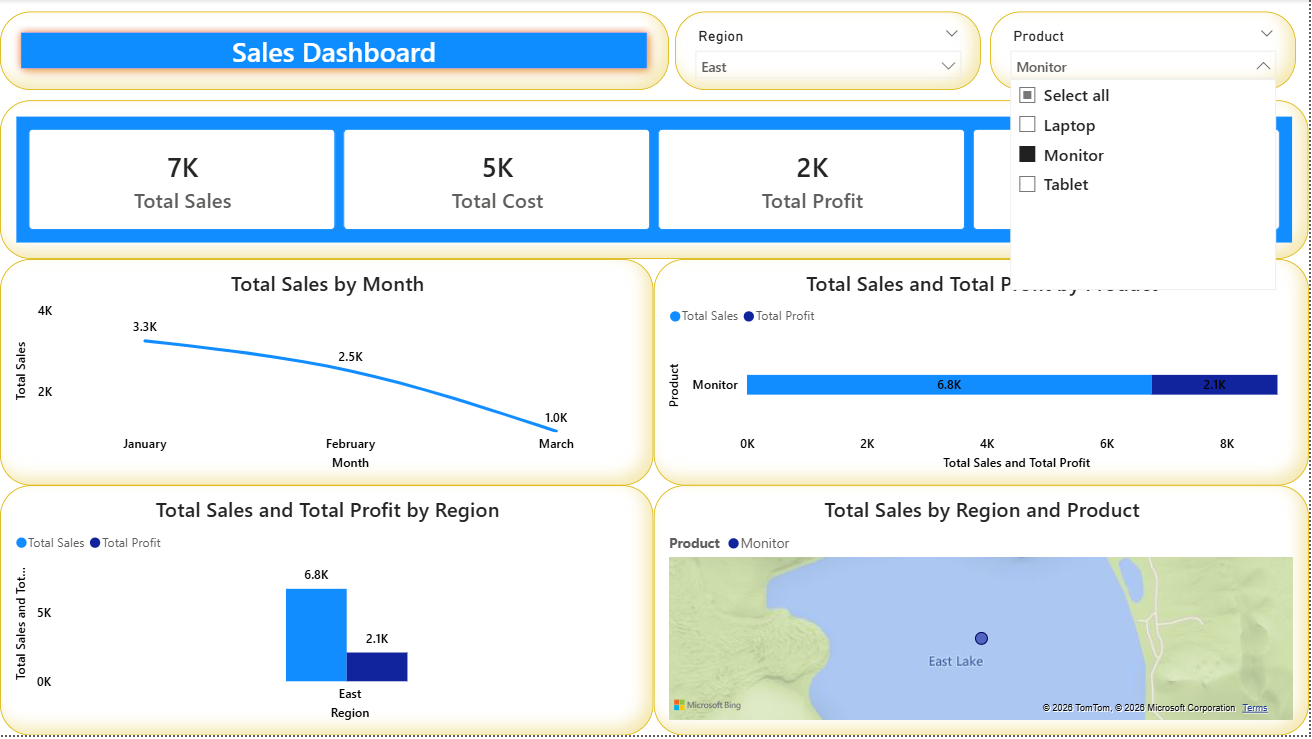

This screenshot's page, from the dashboard's own definition file:
{"tool":"powerbi","page":{"name":"Sales_Dashboard","canvas":[1280,720],"ordinal":0},"visuals":[{"type":"shape","box":[0,12.2,654.2,77],"z":0},{"type":"cardVisual","fields":{"Data":["Dax_Table (2).Total Sales","Dax_Table (2).Total Cost ","Dax_Table (2).Total Profit","Dax_Table (2).Total Quantity"]},"box":[0,99,1280.3,155.3],"z":1000},{"type":"lineChart","fields":{"Category":["Sales_Data.Date.Variation.Date Hierarchy.Month"],"Y":["Dax_Table (2).Total Sales"]},"box":[0,254.3,639.5,221.3],"z":2000},{"type":"clusteredColumnChart","fields":{"Y":["Dax_Table (2).Total Sales","Dax_Table (2).Total Profit"],"Category":["Sales_Data.Region"]},"box":[0,475.7,639.5,244.6],"z":3000},{"type":"barChart","fields":{"Category":["Sales_Data.Product"],"Y":["Dax_Table (2).Total Sales","Dax_Table (2).Total Profit"]},"box":[639.5,254.3,640.8,221.3],"z":4000},{"type":"map","fields":{"Category":["Sales_Data.Region"],"Size":["Dax_Table (2).Total Sales"],"Series":["Sales_Data.Product"]},"box":[639.5,475.7,640.8,244.6],"z":5000},{"type":"slicer","fields":{"Values":["Sales_Data.Region"]},"box":[660.3,12.2,299.6,77],"z":5001},{"type":"slicer","fields":{"Values":["Sales_Data.Product"]},"box":[968.5,12.2,299.6,77],"z":5002}]}

Visuals, with their boxes in screenshot pixels (x1, y1, x2, y2), scaled from the page's 1280x720 canvas onto the 1312x739 screenshot:
shape: region(0, 13, 671, 92)
cardVisual - Dax_Table (2).Total Sales x Dax_Table (2).Total Cost : region(0, 102, 1311, 261)
lineChart - Sales_Data.Date.Variation.Date Hierarchy.Month x Dax_Table (2).Total Sales: region(0, 261, 655, 488)
clusteredColumnChart - Dax_Table (2).Total Sales x Dax_Table (2).Total Profit: region(0, 488, 655, 738)
barChart - Sales_Data.Product x Dax_Table (2).Total Sales: region(655, 261, 1311, 488)
map - Sales_Data.Region x Dax_Table (2).Total Sales: region(655, 488, 1311, 738)
slicer - Sales_Data.Region: region(677, 13, 984, 92)
slicer - Sales_Data.Product: region(993, 13, 1300, 92)
